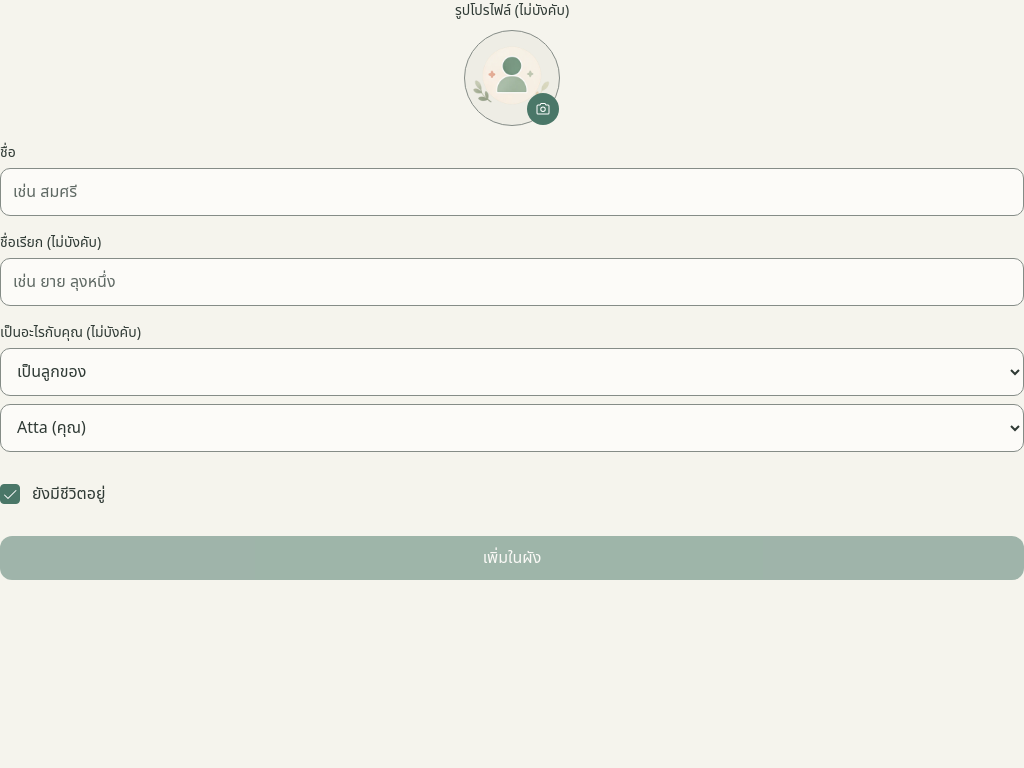
Scenario: AddPersonPage › prefills kind from the tree + menu and stays on the form with an invite card after save
Expected: the dropdown showing "เป็นลูกของ" is shown, [0,348,1023,396]
Type "น้องใหม่" into the field labelled "ชื่อ" at x=512, y=192, box [0,168,1023,216]
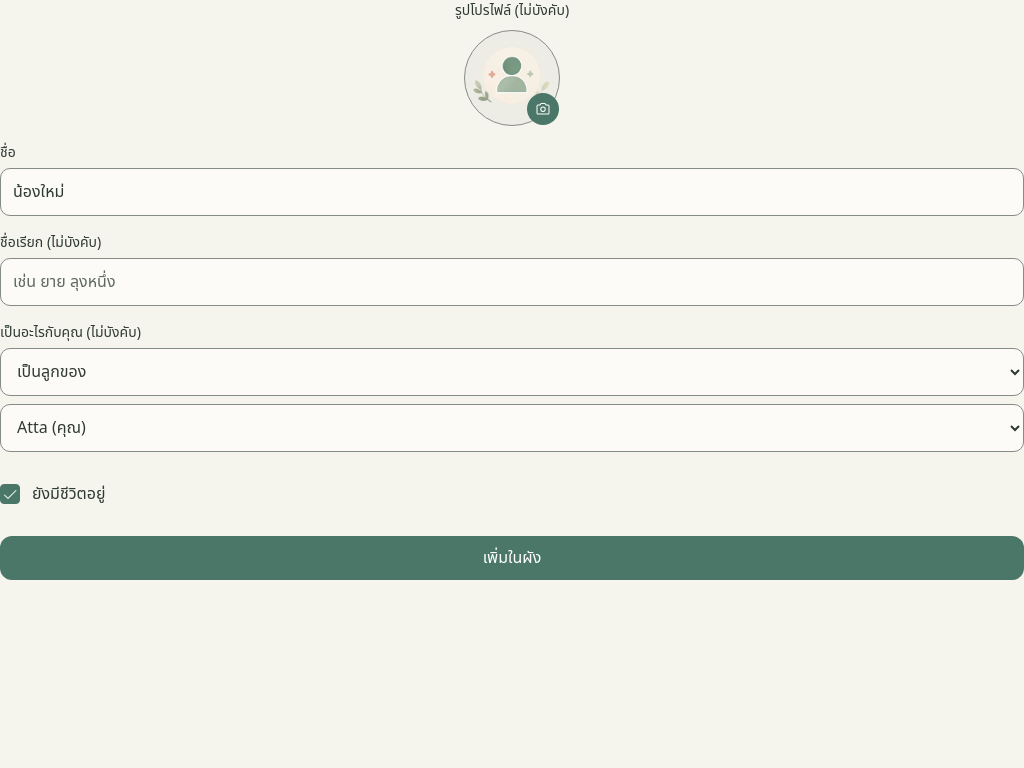
Type "น้อง" into the field labelled "ชื่อเรียก (ไม่บังคับ)" at x=512, y=282, box [0,258,1023,306]
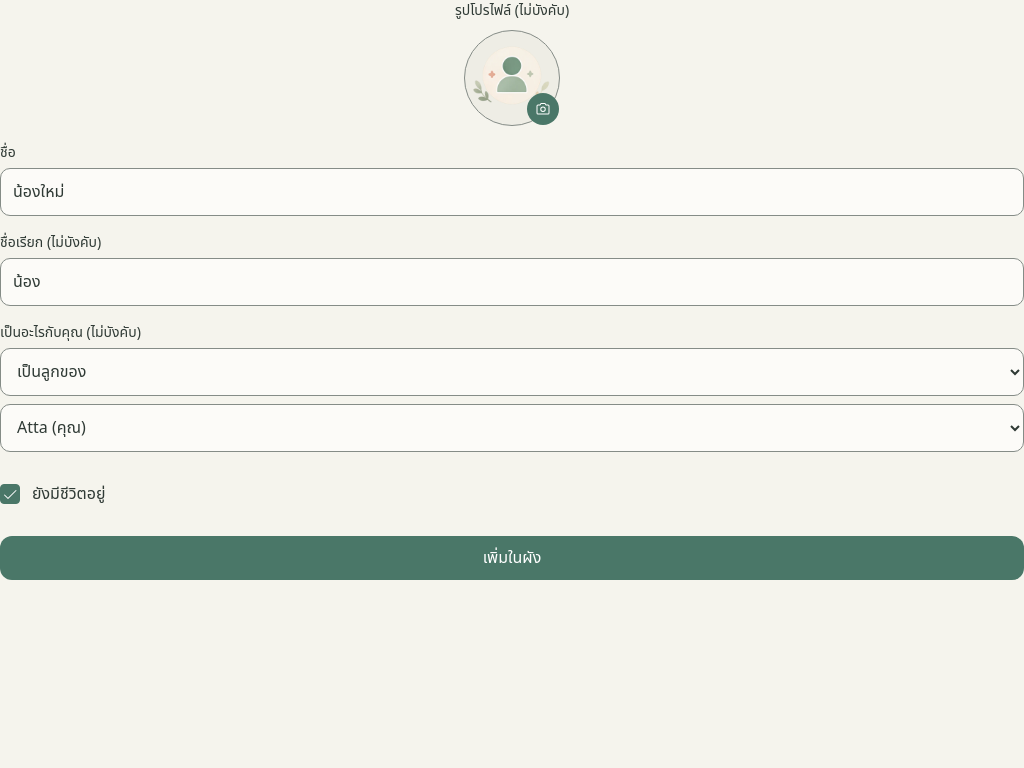
Click the button "เพิ่มในผัง" at x=512, y=558, box [0,536,1023,580]
(page scrolled)
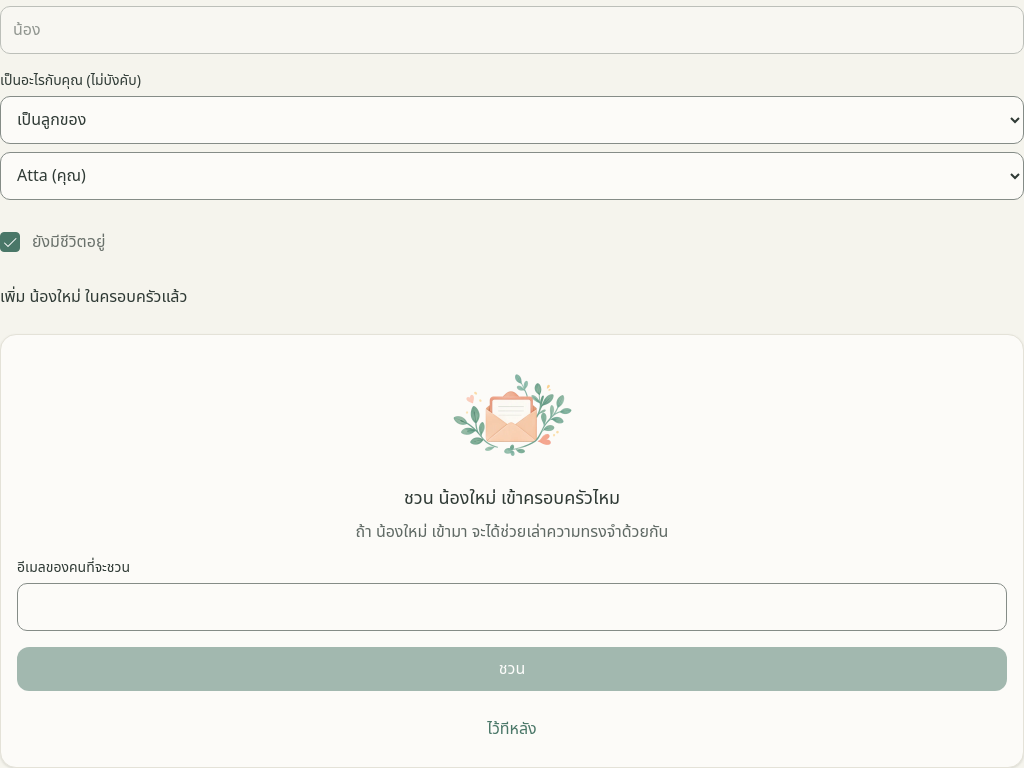
Result: the button "ชวน" is shown at [17,647,1007,691]
